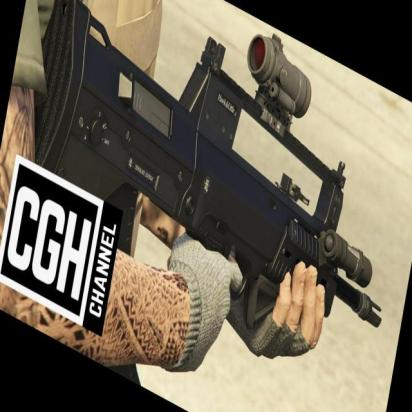Gun: (28, 20, 381, 329)
